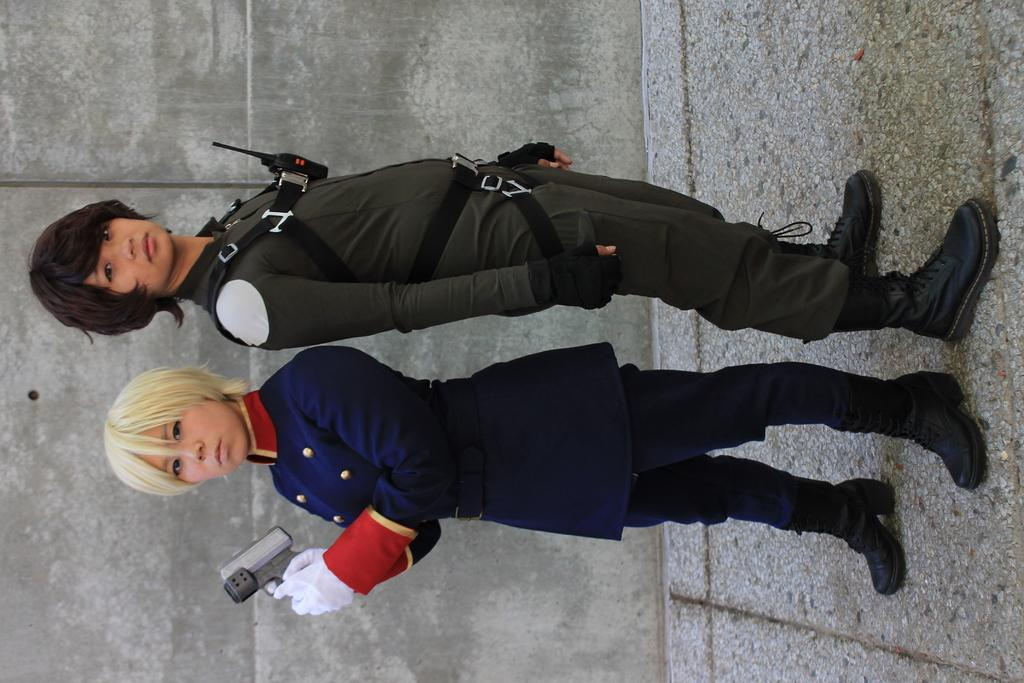Sem Máscara: (139, 397, 248, 481), (87, 218, 173, 294)
